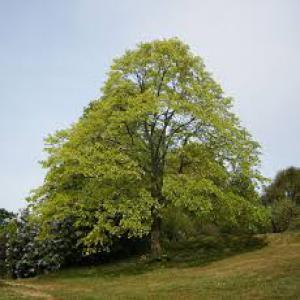Tree: (43, 29, 271, 256)
